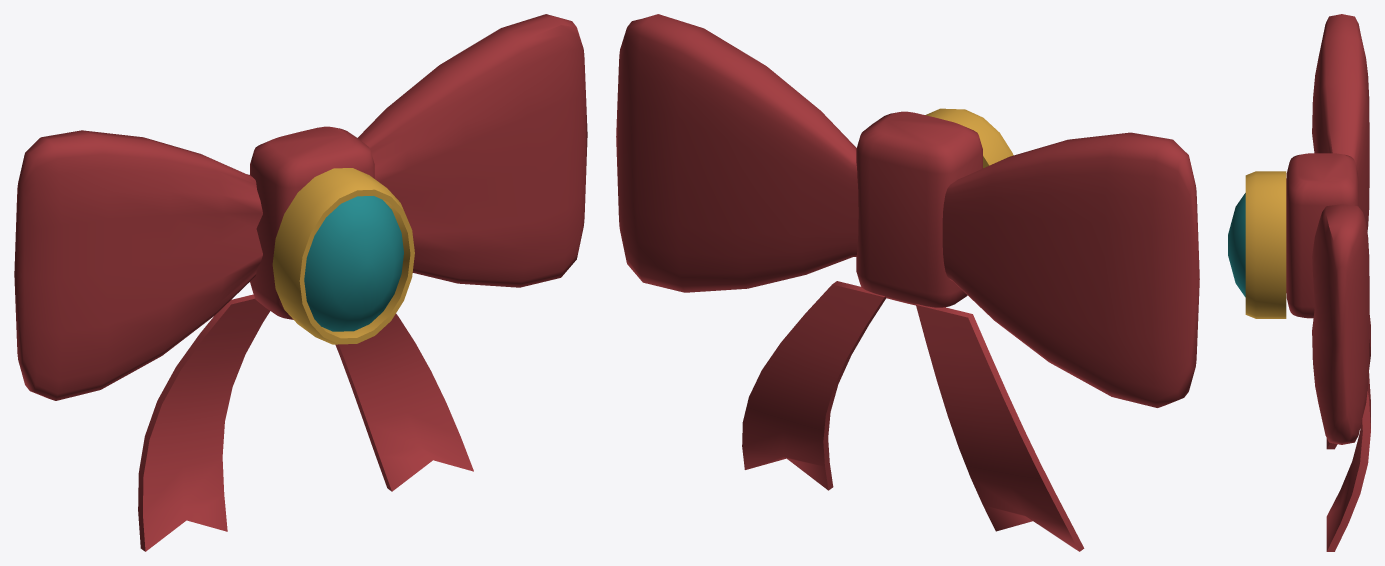
The model's file is KD_RoyalTail_Set.fbx.
The picture shows the model from 3 angles, left to right: view 1: azimuth 30°, elevation 25°; view 2: azimuth 150°, elevation 25°; view 3: azimuth 270°, elevation 25°; orthographic projection. The views are drawn at different scales.
Visible parts, largest first — view 1: KD_RoyalTail_Set; view 2: KD_RoyalTail_Set; view 3: KD_RoyalTail_Set.
Boxes of the visible parts, x1,y1,x2,y2 form: KD_RoyalTail_Set: (14, 14, 587, 551); KD_RoyalTail_Set: (616, 14, 1199, 551); KD_RoyalTail_Set: (1228, 14, 1370, 551).
Bounding box in the file's own units: 0.1116 × 0.0794 × 0.0283.
Materials: 1 (1 with a texture image).
